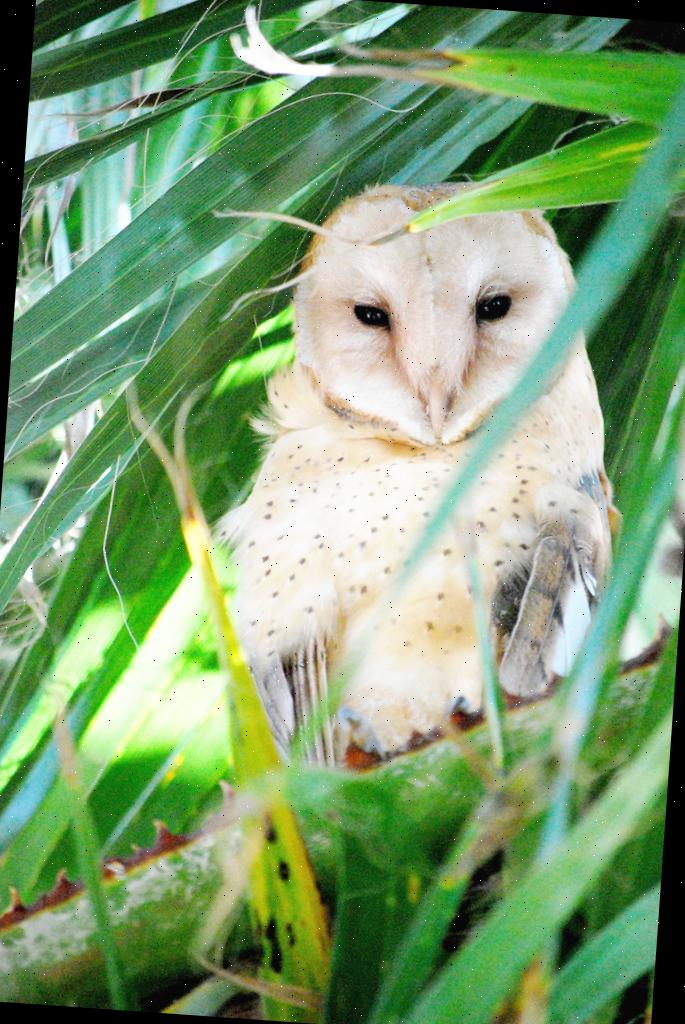Owl: (191, 150, 660, 830)
